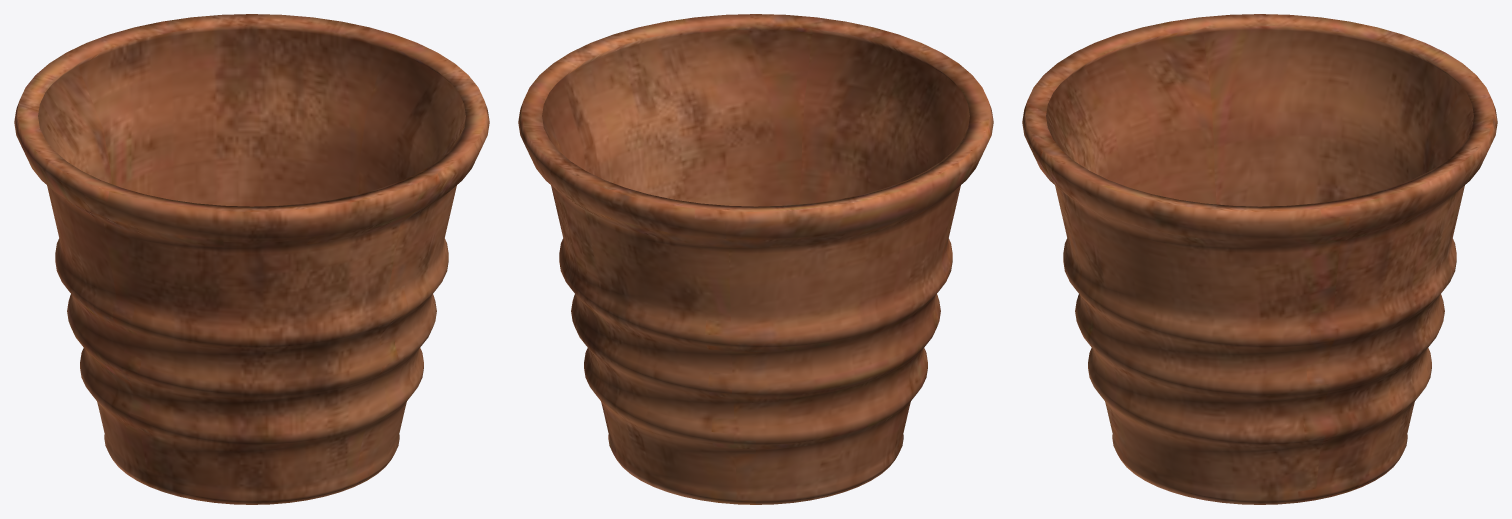
File: pot_ribbed_web.glb
The picture shows the model from 3 angles, left to right: view 1: azimuth 30°, elevation 25°; view 2: azimuth 150°, elevation 25°; view 3: azimuth 270°, elevation 25°; orthographic projection.
Parts seen in each view (by area): view 1: PotRibbed_Mesh; view 2: PotRibbed_Mesh; view 3: PotRibbed_Mesh.
Boxes of the visible parts, x1=… form: PotRibbed_Mesh: x1=14, y1=14, x2=489, y2=504; PotRibbed_Mesh: x1=518, y1=14, x2=993, y2=504; PotRibbed_Mesh: x1=1022, y1=14, x2=1497, y2=504.
Bounding box in the file's own units: 0.28 × 0.215 × 0.28.
Materials: 1 (1 with a texture image).
